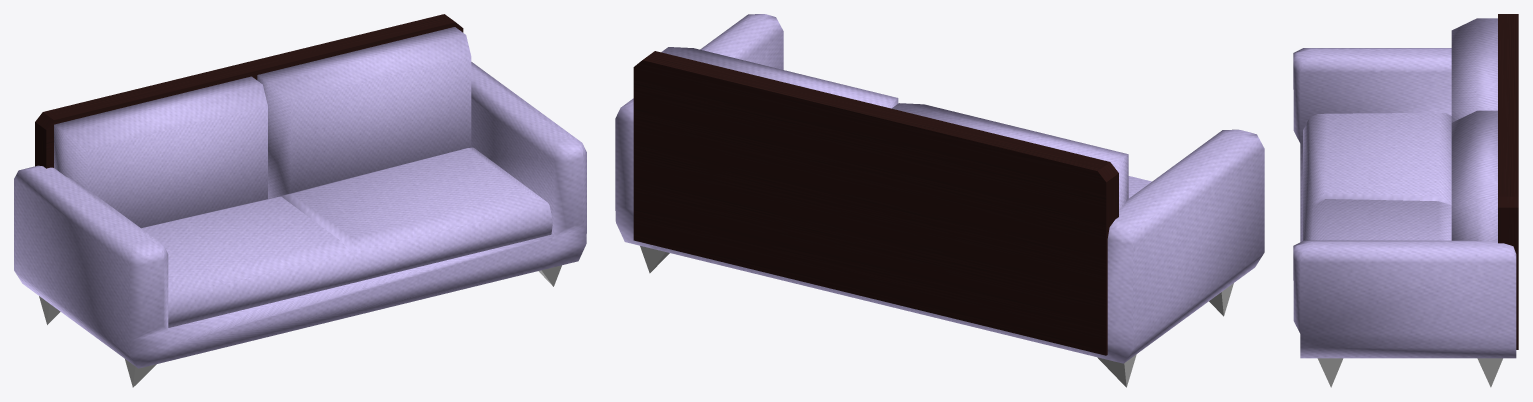
Rendered from Loveseat_01.FBX.
The picture shows the model from 3 angles, left to right: view 1: azimuth 30°, elevation 25°; view 2: azimuth 150°, elevation 25°; view 3: azimuth 270°, elevation 25°; orthographic projection. The views are drawn at different scales.
Visible parts, largest first — view 1: Loveseat; view 2: Loveseat; view 3: Loveseat.
Boxes of the visible parts, bbox=[...] form: Loveseat: bbox=[14, 14, 586, 387]; Loveseat: bbox=[615, 14, 1264, 387]; Loveseat: bbox=[1293, 14, 1518, 387].
Bounding box in the file's own units: 372 × 157 × 171.
